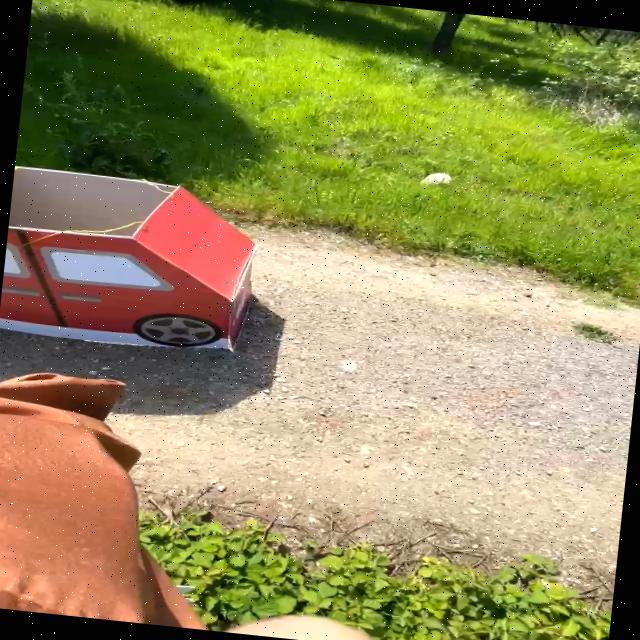red_car: (0, 150, 287, 361)
